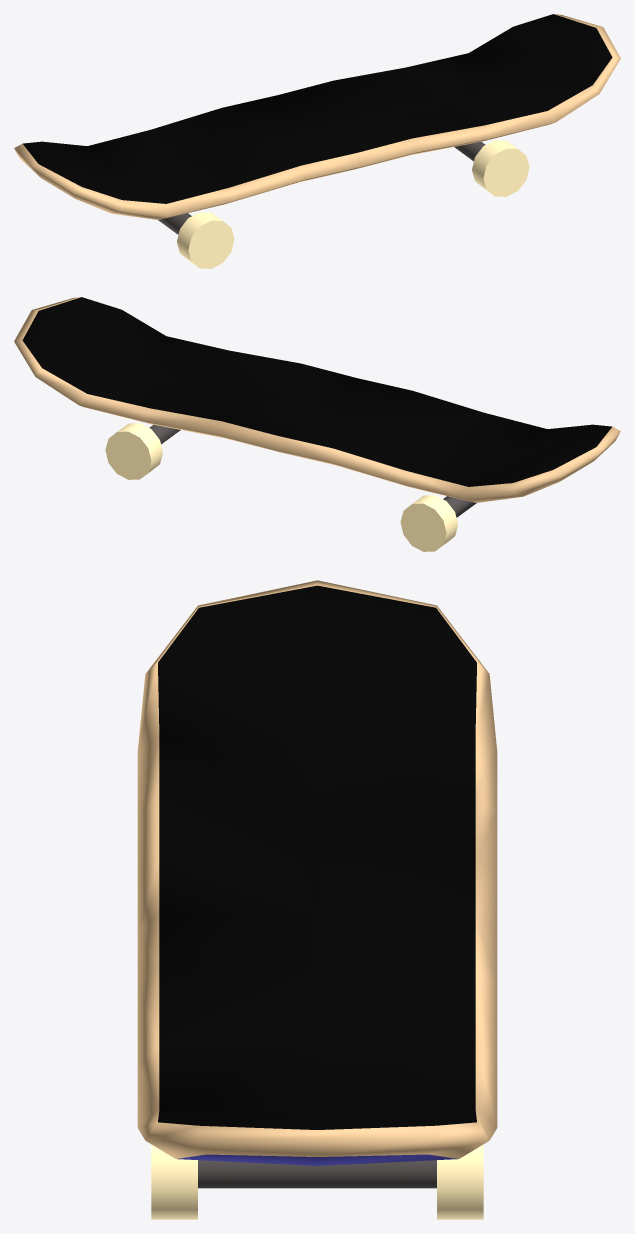
Rendered from SkateboardComplete.glb.
The picture shows the model from 3 angles, top to bottom: view 1: azimuth 30°, elevation 25°; view 2: azimuth 150°, elevation 25°; view 3: azimuth 270°, elevation 25°; orthographic projection. The views are drawn at different scales.
Parts seen in each view (by area): view 1: SkateboardComplete; view 2: SkateboardComplete; view 3: SkateboardComplete.
Boxes of the visible parts, box(x1,y1,x2,y2) form: SkateboardComplete: box(14, 14, 620, 268); SkateboardComplete: box(14, 297, 620, 551); SkateboardComplete: box(137, 580, 497, 1219).
Size of the model in its own units: 1.04 by 0.1857 by 0.284.
1 material, 1 textured.
